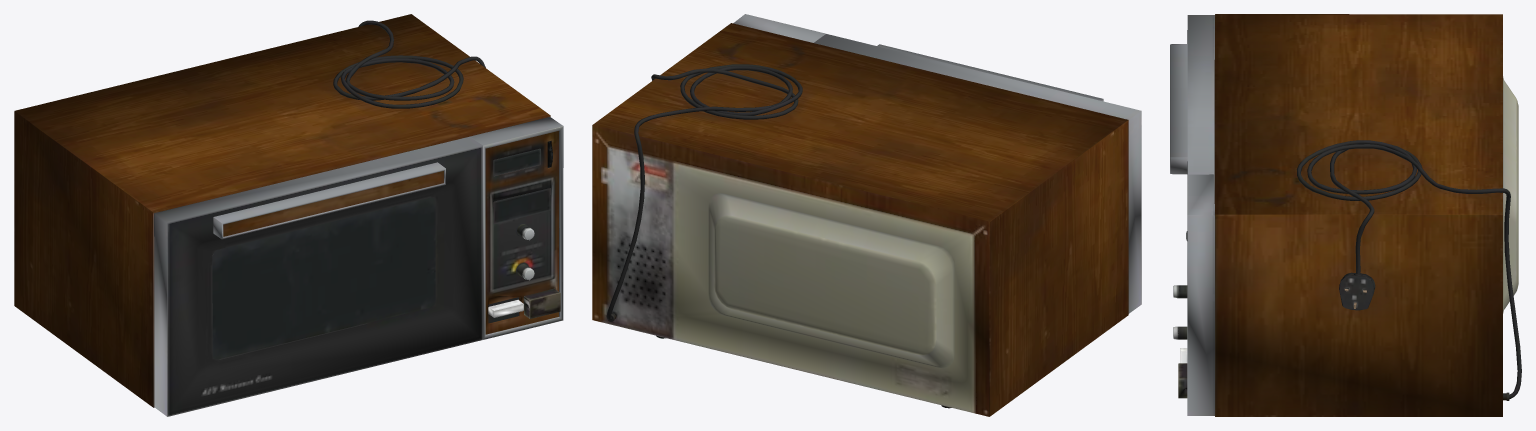
File: vintage_microwave.glb
The picture shows the model from 3 angles, left to right: view 1: azimuth 30°, elevation 25°; view 2: azimuth 150°, elevation 25°; view 3: azimuth 270°, elevation 25°; orthographic projection. The views are drawn at different scales.
Parts seen in each view (by area): view 1: vintage_microwave; view 2: vintage_microwave; view 3: vintage_microwave.
Part boxes in pixels (x1=…): vintage_microwave: x1=14, y1=14, x2=563, y2=416; vintage_microwave: x1=592, y1=14, x2=1141, y2=416; vintage_microwave: x1=1170, y1=14, x2=1521, y2=416.
Bounding box in the file's own units: 1.07 × 0.5257 × 0.7455.
2 materials, 2 textured.
